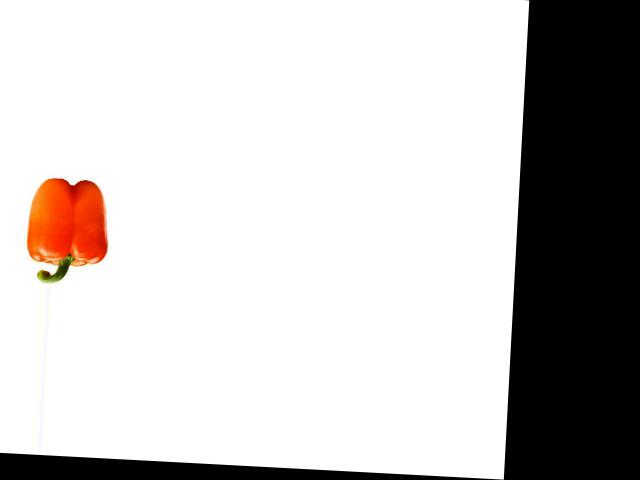bell_pepper: (16, 175, 118, 286)
